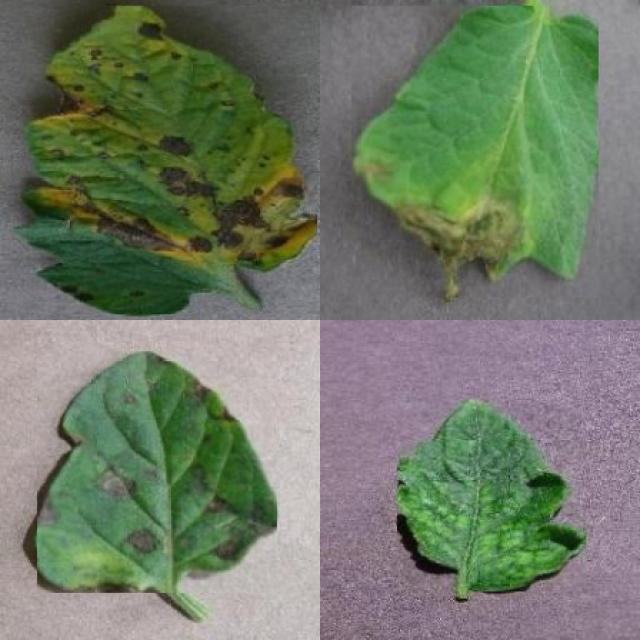Early Blight: (20, 6, 317, 315), (37, 348, 277, 593)
Late Blight: (352, 6, 598, 298)
Mosaic Virus: (398, 398, 586, 592)
